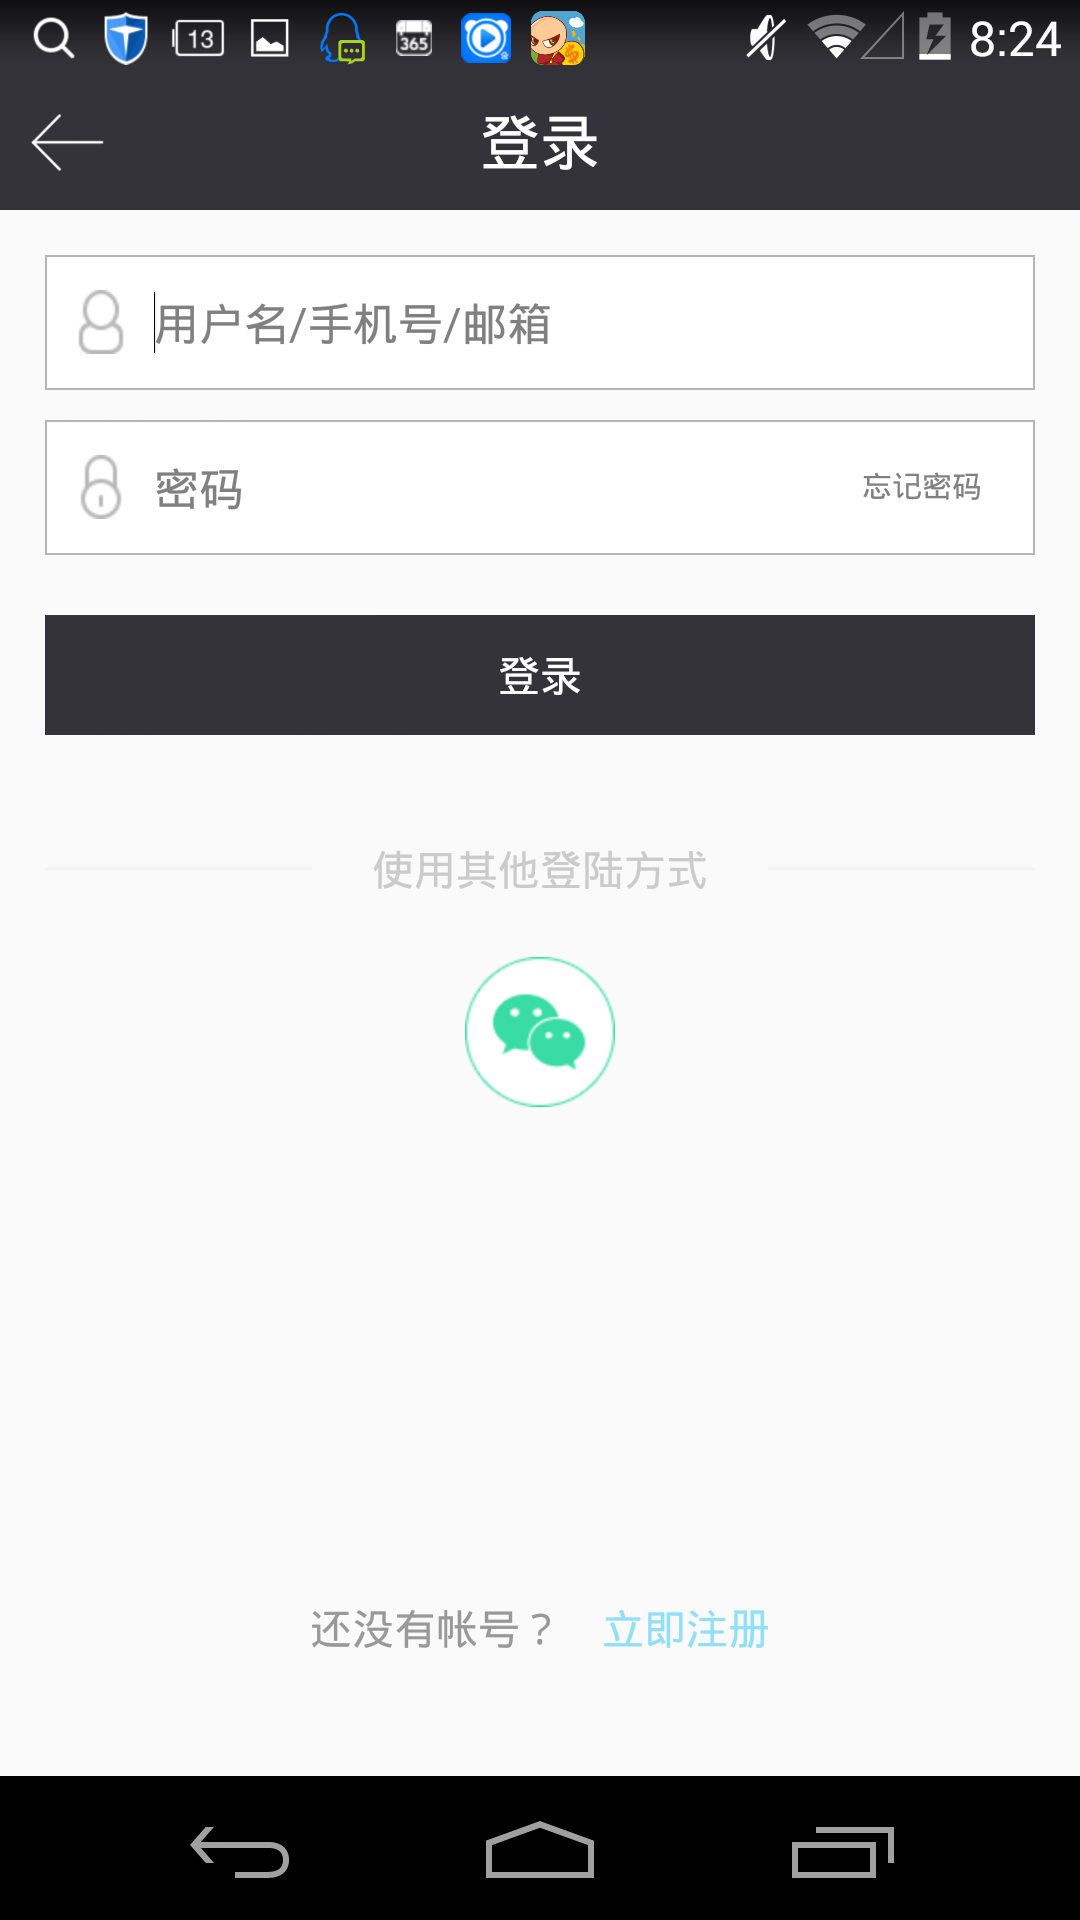button: (33, 607, 1050, 758)
imgbutton: (454, 947, 632, 1126)
textview: (38, 247, 1044, 407)
